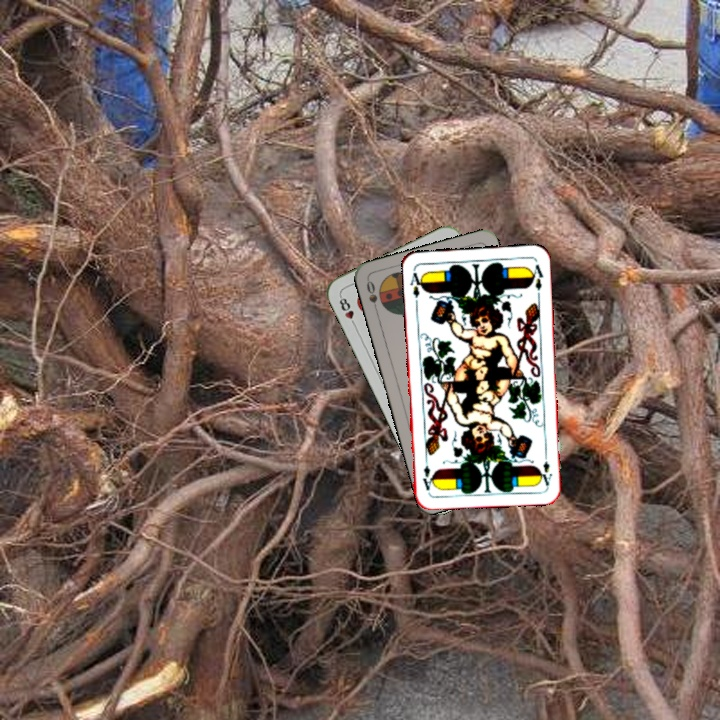EA: (536, 448, 555, 488), (406, 265, 426, 300)
H8: (335, 291, 359, 330)
SO: (362, 277, 381, 317)
